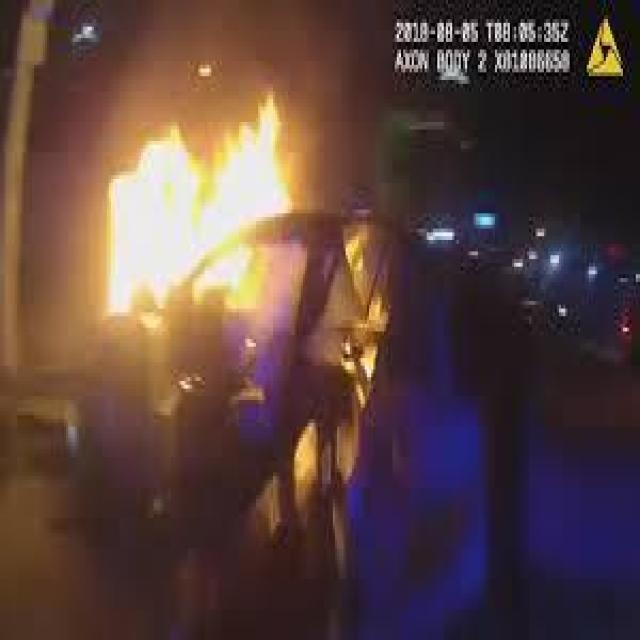fire: (83, 94, 319, 328)
